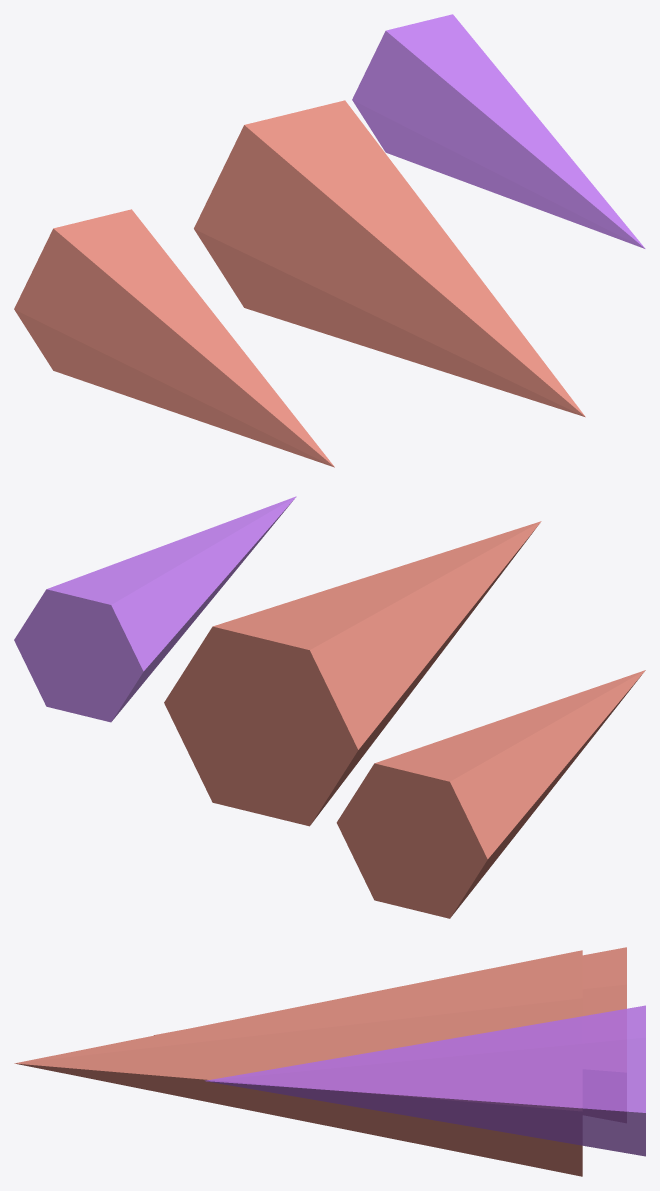
File: underwater_coral_cluster.glb
3 views of the same model, one above another, from view 1: azimuth 30°, elevation 25°; view 2: azimuth 150°, elevation 25°; view 3: azimuth 270°, elevation 25° (orthographic). The views are drawn at different scales.
Visible parts, largest first — view 1: coral_a, coral_c, coral_b; view 2: coral_a, coral_c, coral_b; view 3: coral_a, coral_b, coral_c.
Part boxes in pixels (box(x1,y1,x2,y2)): coral_a: box(194, 100, 585, 417); coral_c: box(14, 209, 334, 467); coral_b: box(352, 14, 645, 248); coral_a: box(164, 521, 541, 826); coral_c: box(336, 670, 645, 918); coral_b: box(14, 496, 296, 722); coral_a: box(14, 950, 582, 1176); coral_b: box(205, 1005, 645, 1156); coral_c: box(154, 947, 626, 1035).
Bounding box in the file's own units: 0.86 × 0.4252 × 1.
